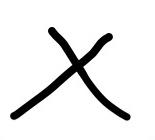mult: (10, 27, 131, 121)
